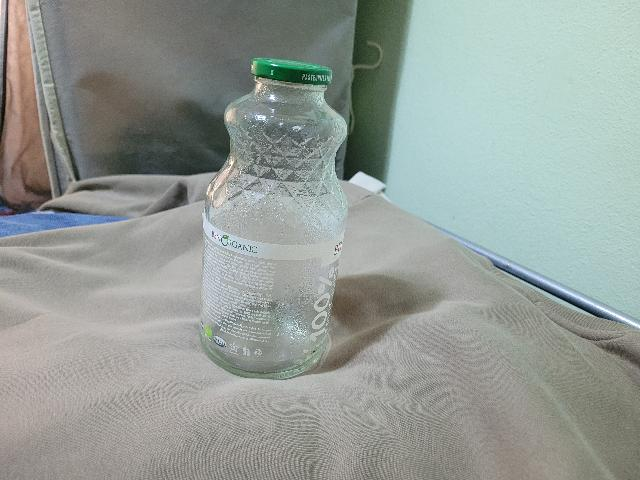Cam: (181, 84, 379, 384)
Metal: (235, 47, 354, 90)
